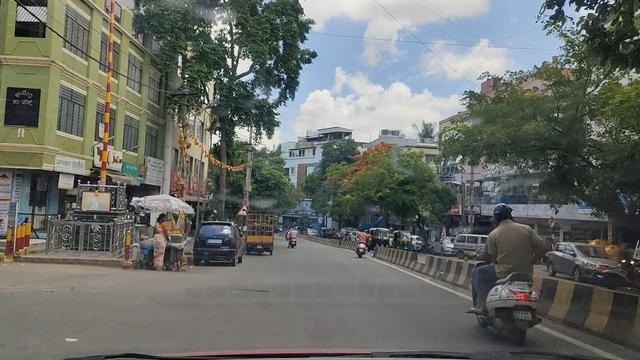LMV: (479, 209, 529, 321), (200, 222, 241, 261)
RoadDamages: (230, 277, 271, 299)
